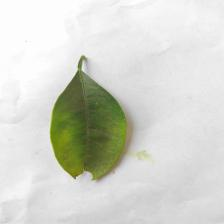black spot: (60, 91, 125, 172)
